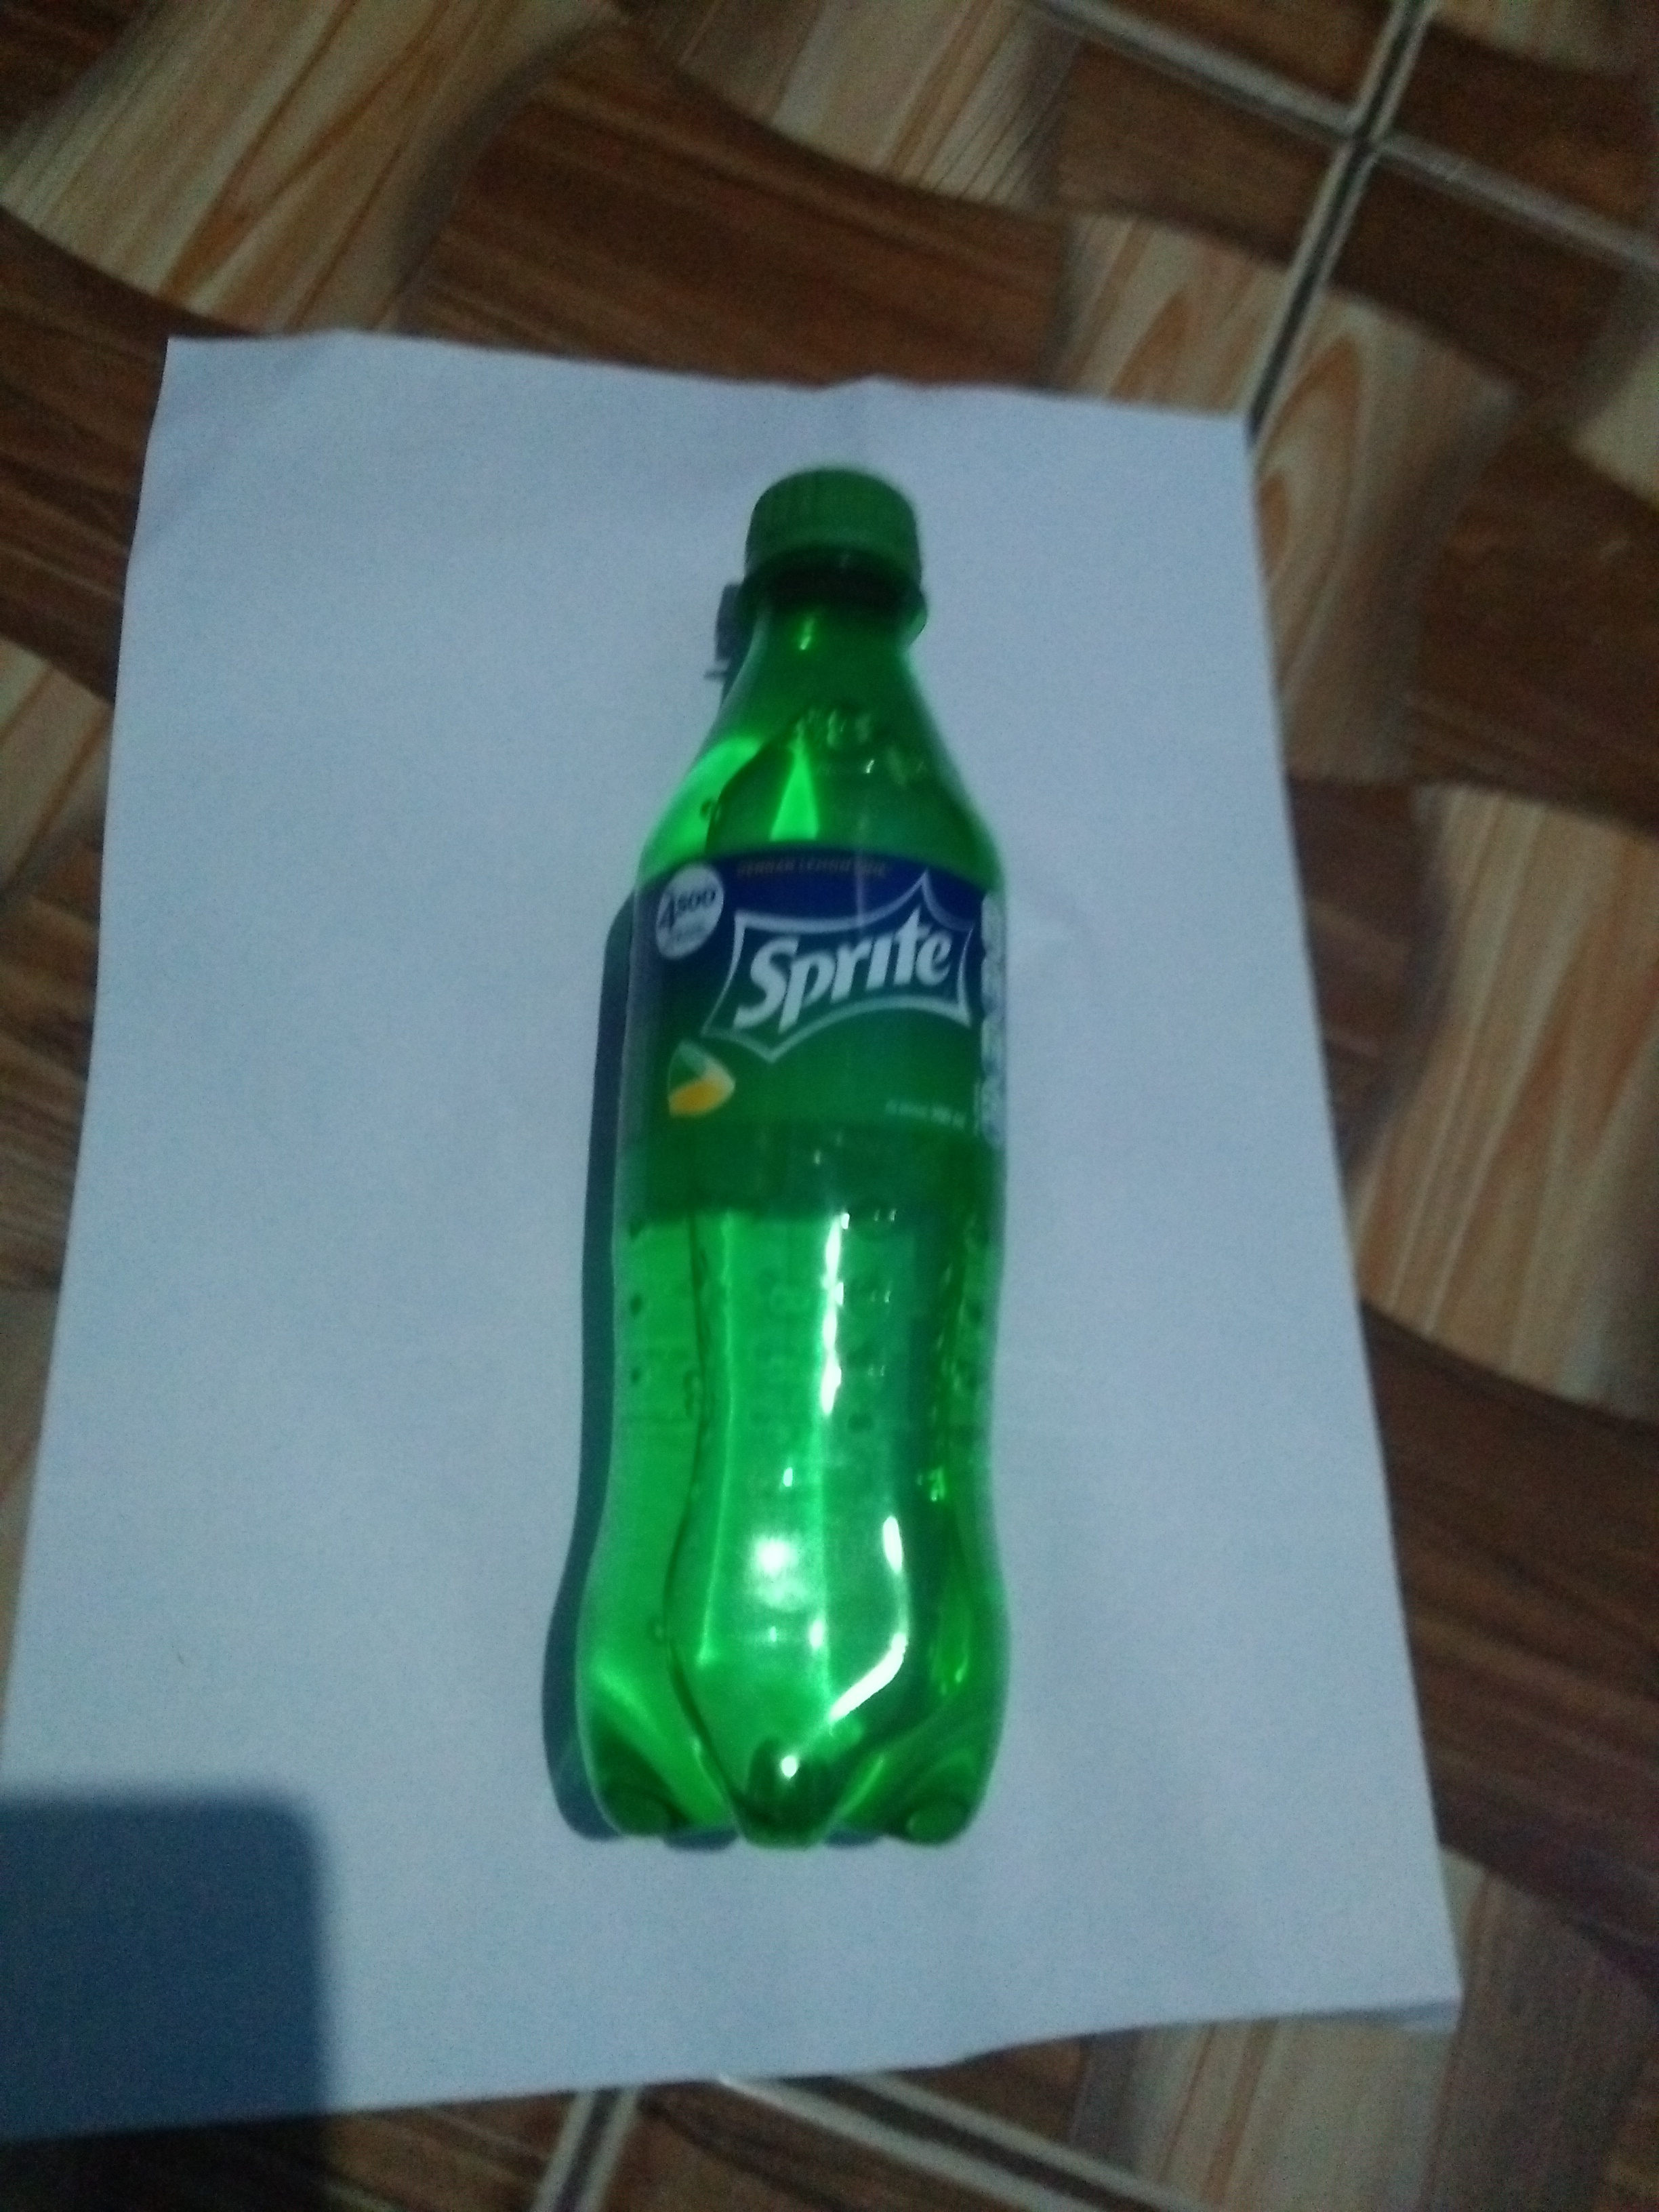Sprite: (533, 463, 1056, 1855)
